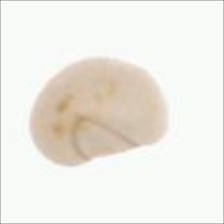L5: (69, 114, 141, 162)
L6: (24, 55, 171, 168)
